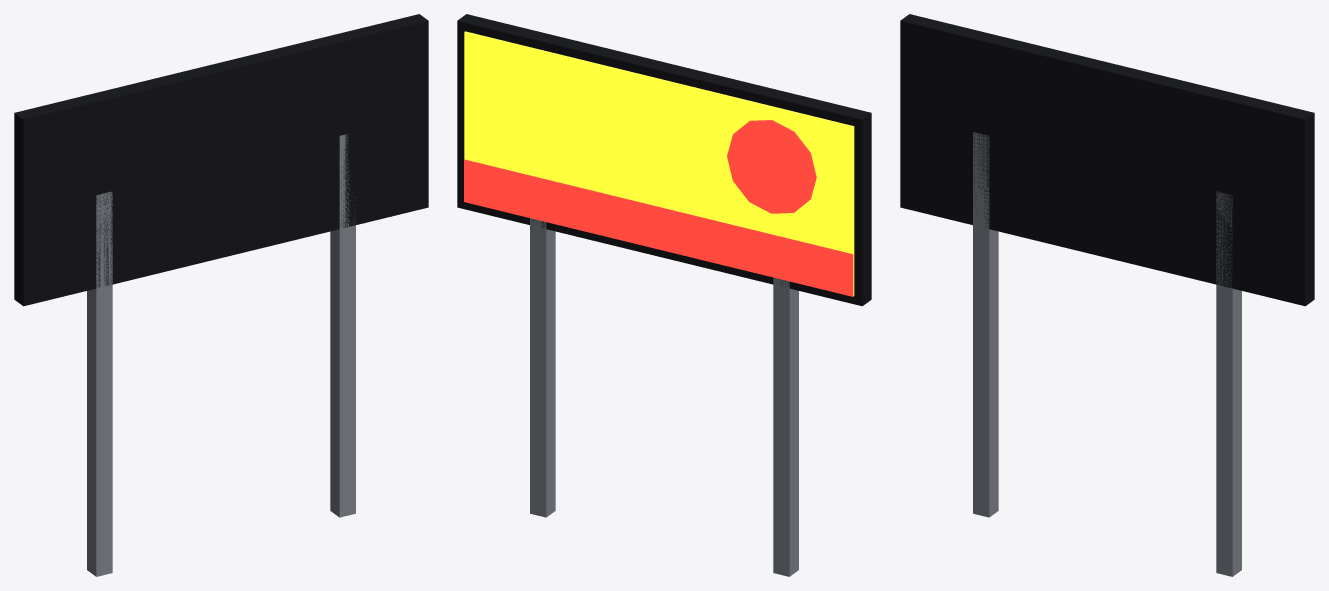
File: prop_billboard.glb
The picture shows the model from 3 angles, left to right: view 1: azimuth 30°, elevation 25°; view 2: azimuth 150°, elevation 25°; view 3: azimuth 330°, elevation 25°; orthographic projection.
Visible parts, largest first — view 1: prop_billboard__mesh; view 2: prop_billboard__mesh; view 3: prop_billboard__mesh.
Part boxes in pixels (x1=…): prop_billboard__mesh: x1=14, y1=14, x2=428, y2=576; prop_billboard__mesh: x1=457, y1=14, x2=871, y2=576; prop_billboard__mesh: x1=900, y1=14, x2=1314, y2=576.
Size of the model in its own units: 10 by 11.2 by 0.475.
